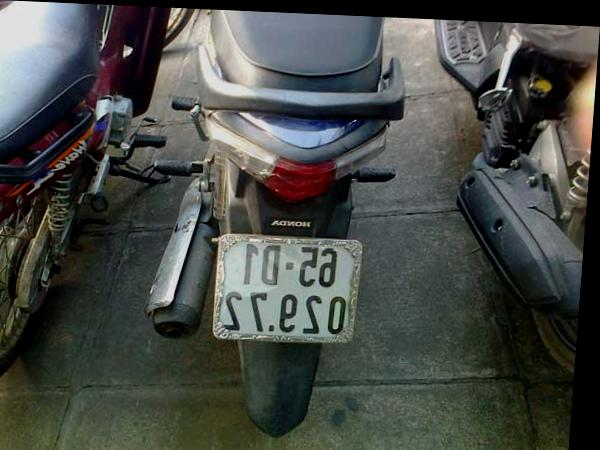License_Plate: (205, 230, 364, 347)
